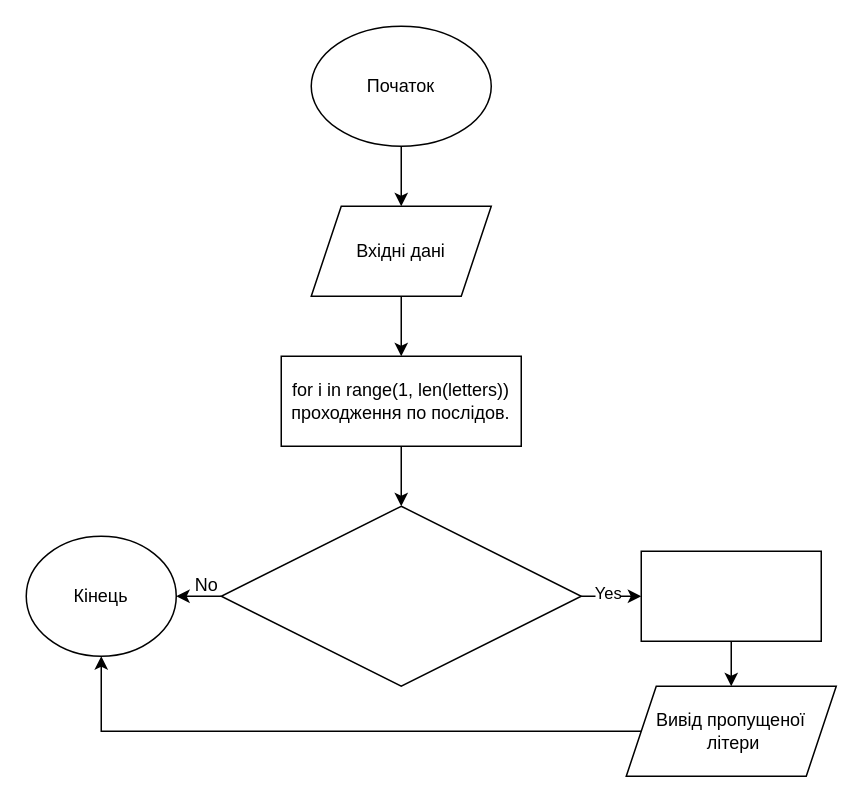
Some shapes in this 863 by 803 pixel diagram are drawn without their labels. The centre of each missing label's shape, as x and y in pixels:
if ord(letters[i]) - ord(letters[i - 1]) != 1 перевірка різниці: pixel 400 595
return: pixel 730 595
